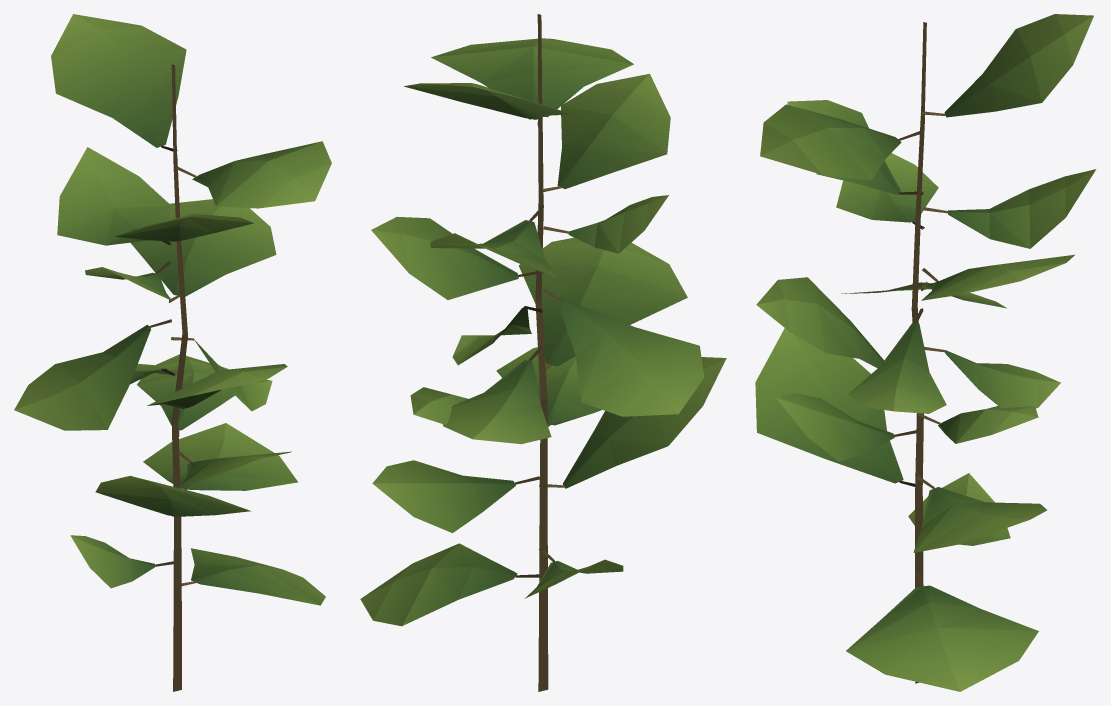
The model's file is forest_shrub_001_c_LOD1.gltf.
The picture shows the model from 3 angles, left to right: view 1: azimuth 30°, elevation 25°; view 2: azimuth 150°, elevation 25°; view 3: azimuth 270°, elevation 25°; orthographic projection. The views are drawn at different scales.
Parts seen in each view (by area): view 1: forest_shrub_001_c_LOD1; view 2: forest_shrub_001_c_LOD1; view 3: forest_shrub_001_c_LOD1.
Boxes of the visible parts, x1,y1,x2,y2 form: forest_shrub_001_c_LOD1: (14,14,331,691); forest_shrub_001_c_LOD1: (360,14,726,691); forest_shrub_001_c_LOD1: (755,14,1096,691).
Bounding box in the file's own units: 0.5446 × 1.11 × 0.5226.
1 material, 1 textured.
